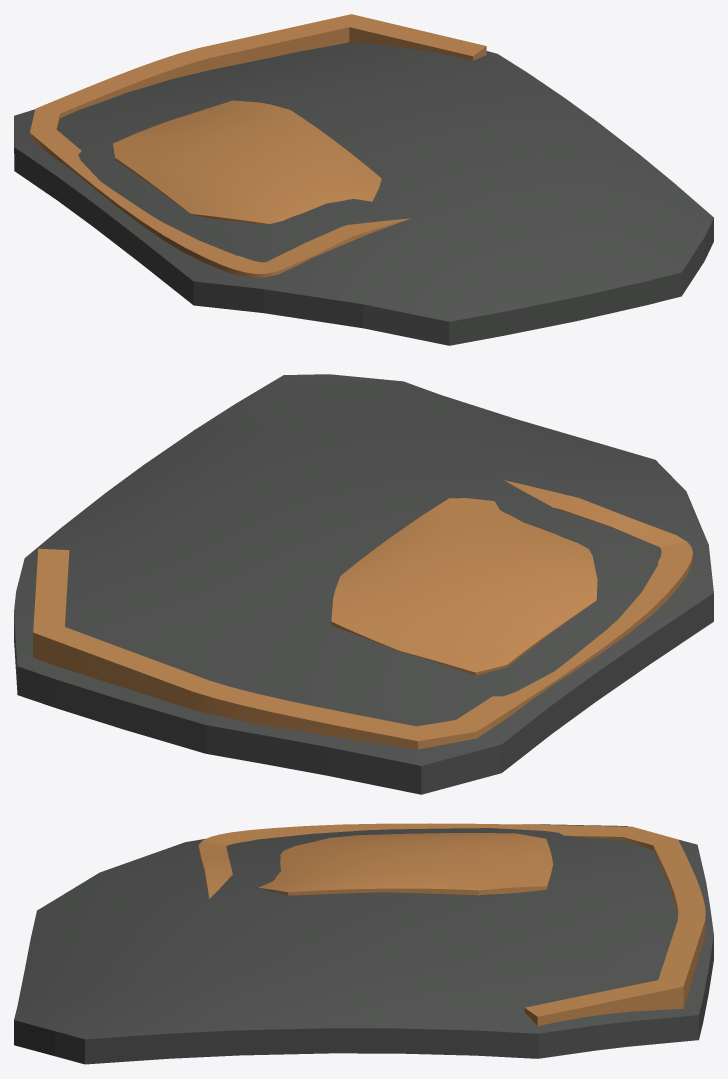
The model's file is SM_Worldmap_B01_Col.FBX.
3 views of the same model, one above another, from view 1: azimuth 30°, elevation 25°; view 2: azimuth 150°, elevation 25°; view 3: azimuth 270°, elevation 25° (orthographic). The views are drawn at different scales.
Parts seen in each view (by area): view 1: Object042; view 2: Object042; view 3: Object042.
Part boxes in pixels (bbox=[...]): Object042: bbox=[14, 14, 713, 345]; Object042: bbox=[14, 374, 713, 794]; Object042: bbox=[14, 823, 713, 1064].
Size of the model in its own units: 253 by 39.56 by 332.
